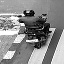motor: (18, 9, 51, 49)
